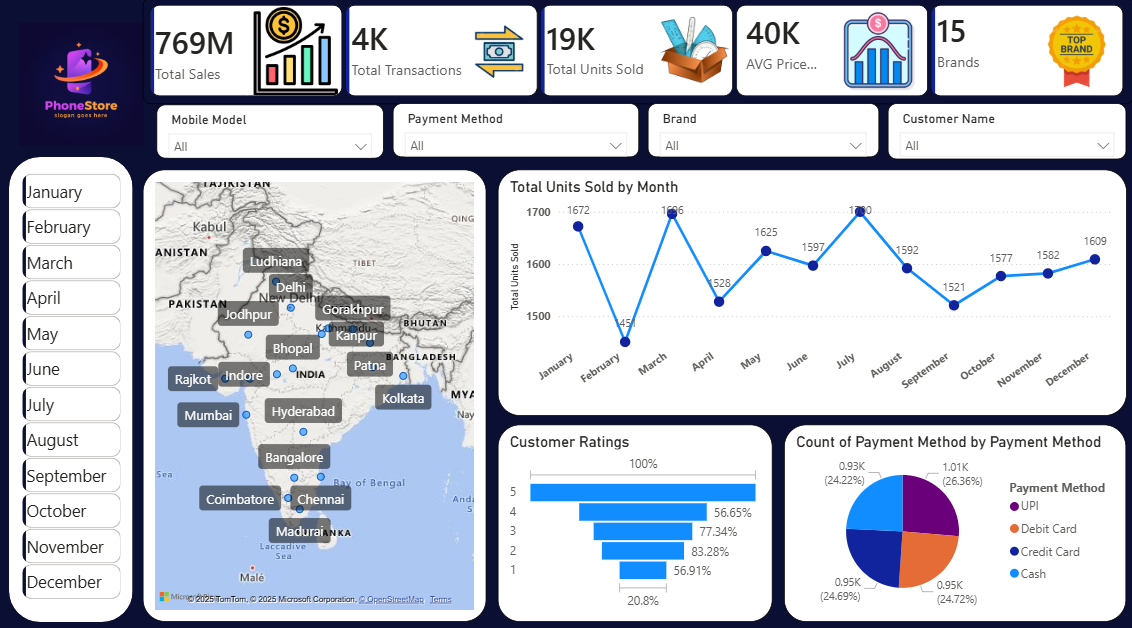

This screenshot's page, from the dashboard's own definition file:
{"tool":"powerbi","page":{"name":"Page 1","canvas":[1280,720],"ordinal":0},"visuals":[{"type":"shape","box":[11.3,180.3,139.4,523.9],"z":0},{"type":"image","box":[22,15.1,140,166],"z":1000},{"type":"advancedSlicerVisual","fields":{"Values":["Sheet1.Date.Variation.Date Hierarchy.Month"]},"box":[23.9,194.4,115.5,491.5],"z":2000},{"type":"cardVisual","fields":{"Data":["Sheet1.Total Sales","Sheet1.Total Transactions","Sheet1.Total Units Sold","Sheet1.AVG Price per Unit","Count(Sheet1.Mobile Model)"]},"box":[162,0,1118.3,121.1],"z":3000},{"type":"slicer","fields":{"Values":["Sheet1.Mobile Model"]},"box":[177.5,121.1,256.3,60.6],"z":4000},{"type":"slicer","fields":{"Values":["Sheet1.Payment Method"]},"box":[443.7,119.7,277.5,60.6],"z":5000},{"type":"slicer","fields":{"Values":["Sheet1.Brand"]},"box":[731,119.7,260.6,60.6],"z":6000},{"type":"map","fields":{"Category":["Sheet1.City"]},"box":[162,194.4,387.3,509.9],"z":7000},{"type":"slicer","fields":{"Values":["Sheet1.Customer Name"]},"box":[1001.4,119.7,269,63.4],"z":8000},{"type":"lineChart","fields":{"Category":["Sheet1.Date.Variation.Date Hierarchy.Month"],"Y":["Sheet1.Total Units Sold"]},"box":[562,194.4,708.5,277.5],"z":9000},{"type":"pieChart","fields":{"Category":["Sheet1.Payment Method"],"Y":["CountNonNull(Sheet1.Payment Method)"]},"box":[884.5,481.7,385.9,222.5],"z":10000},{"type":"funnel","title":"Customer Ratings","fields":{"Category":["Sheet1.Customer Ratings"],"Y":["CountNonNull(Sheet1.Customer Ratings)"]},"box":[562,481.7,309.9,222.5],"z":11000}]}

Visuals, with their boxes in screenshot pixels (x1, y1, x2, y2), scaled from the page's 1280x720 canvas onto the 1132x628 screenshot:
shape: (10, 157, 133, 614)
image: (19, 13, 143, 158)
advancedSlicerVisual - Sheet1.Date.Variation.Date Hierarchy.Month: (21, 170, 123, 598)
cardVisual - Sheet1.Total Sales x Sheet1.Total Transactions: (143, 0, 1131, 106)
slicer - Sheet1.Mobile Model: (157, 106, 384, 158)
slicer - Sheet1.Payment Method: (392, 104, 638, 157)
slicer - Sheet1.Brand: (646, 104, 877, 157)
map - Sheet1.City: (143, 170, 486, 614)
slicer - Sheet1.Customer Name: (886, 104, 1124, 160)
lineChart - Sheet1.Date.Variation.Date Hierarchy.Month x Sheet1.Total Units Sold: (497, 170, 1124, 412)
pieChart - Sheet1.Payment Method x CountNonNull(Sheet1.Payment Method): (782, 420, 1124, 614)
"Customer Ratings" funnel: (497, 420, 771, 614)
